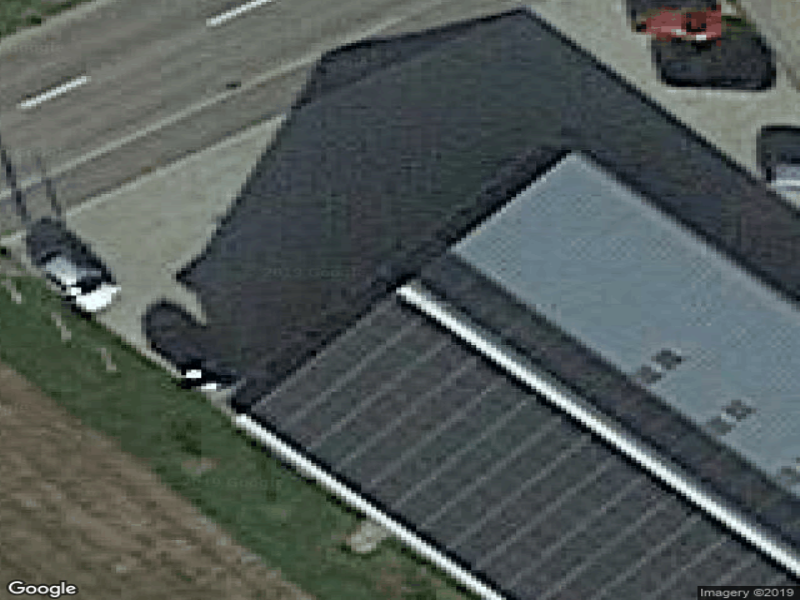pv: (252, 298, 800, 599)
